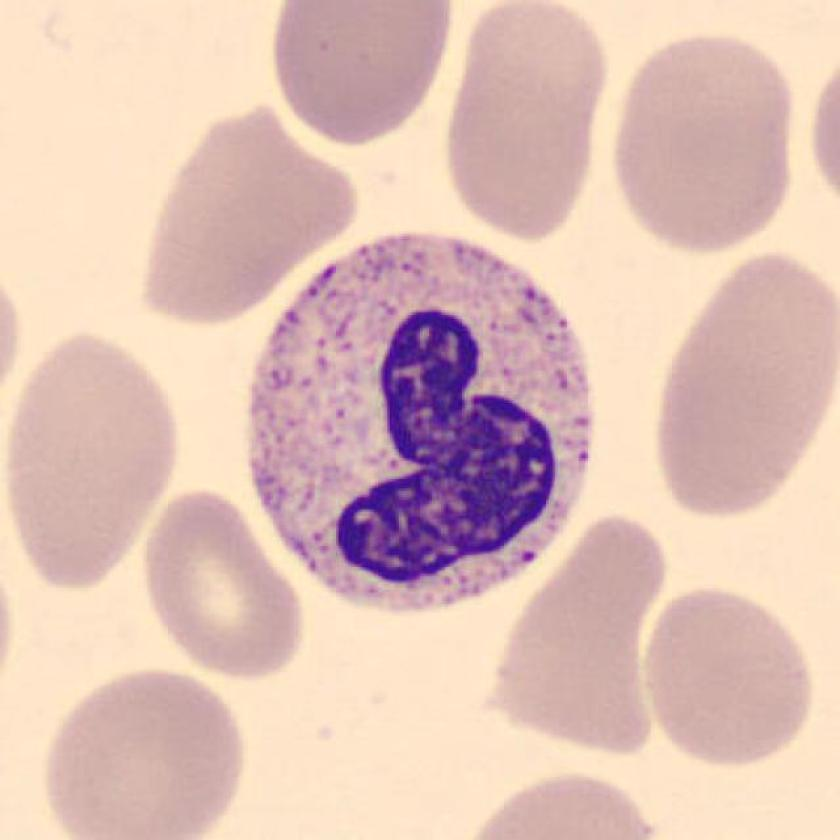neutrophil: (252, 235, 593, 608)
